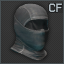Cold Fear Infrared balaclava: (0, 0, 64, 64)
